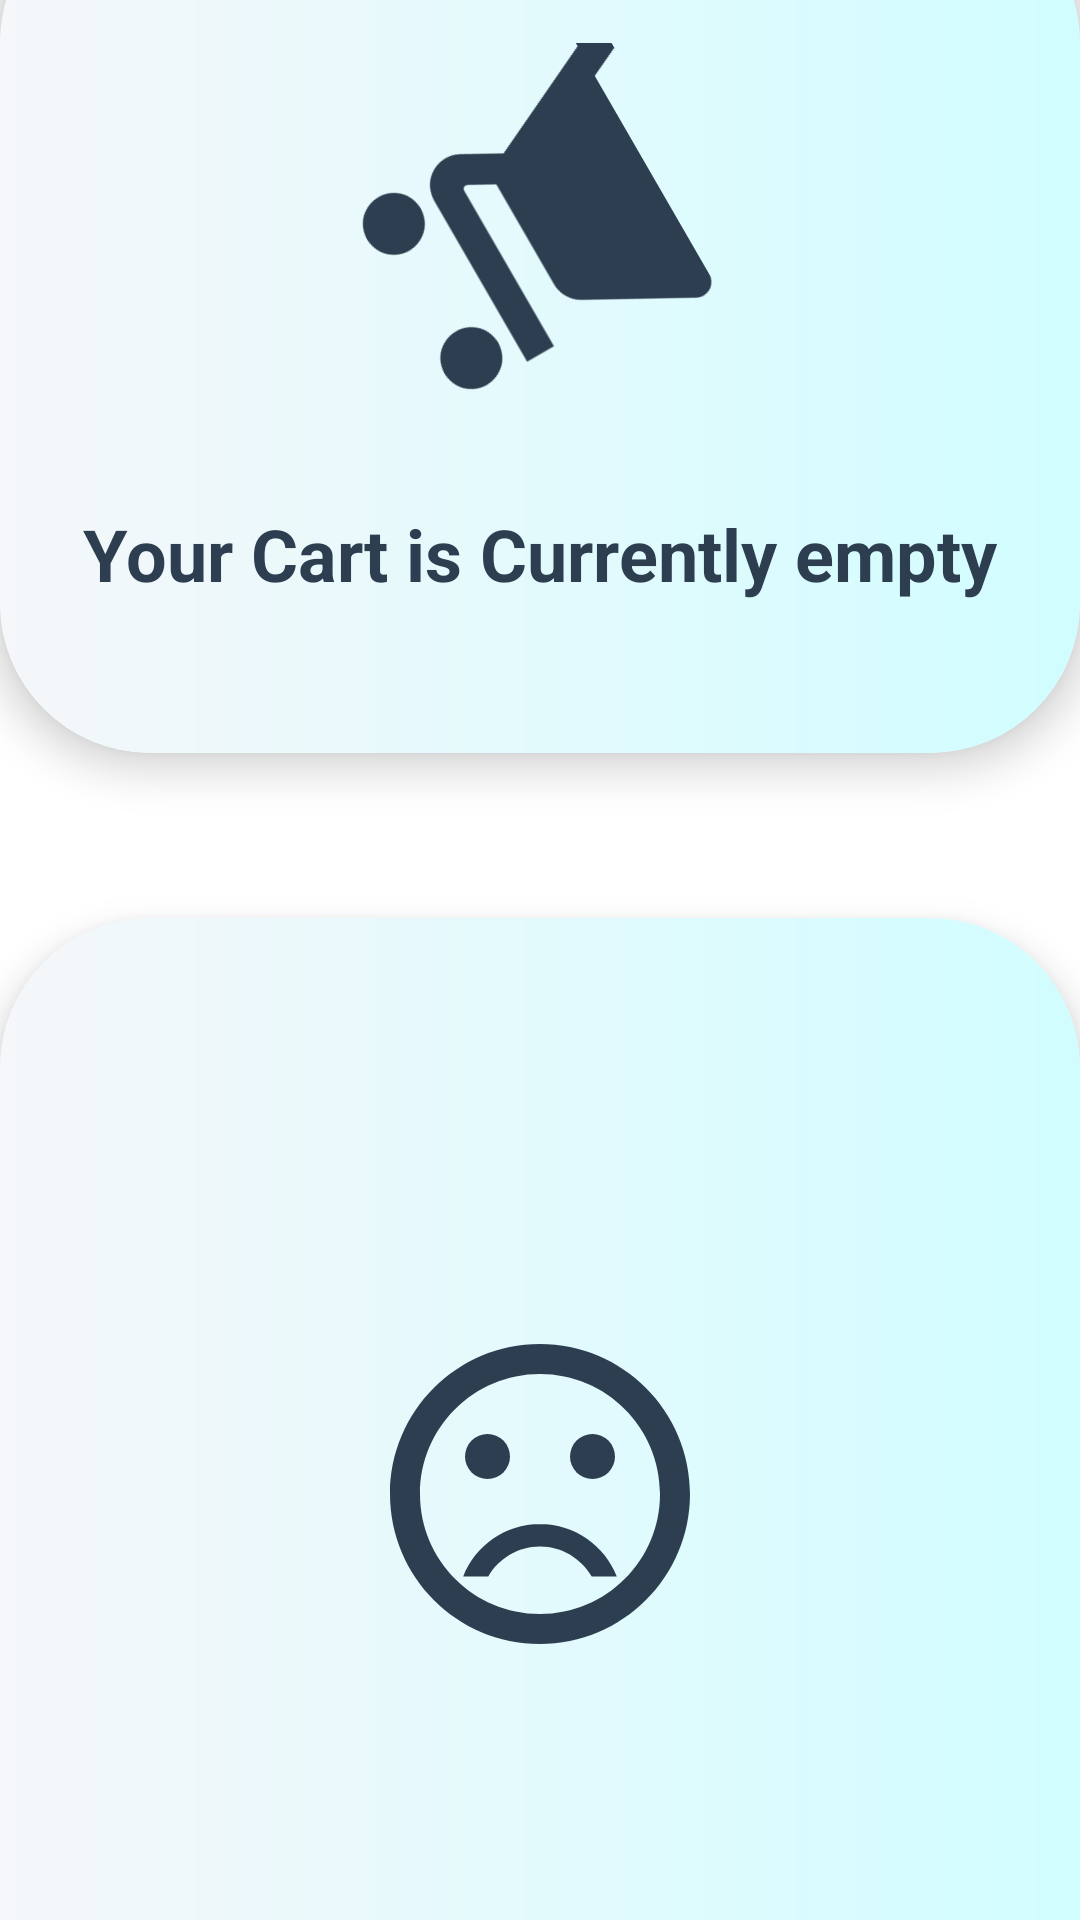

Point at icon controls on the screen. Image size 1080 x 1920, points as (x,y).
rotatedcart: (537,216)
